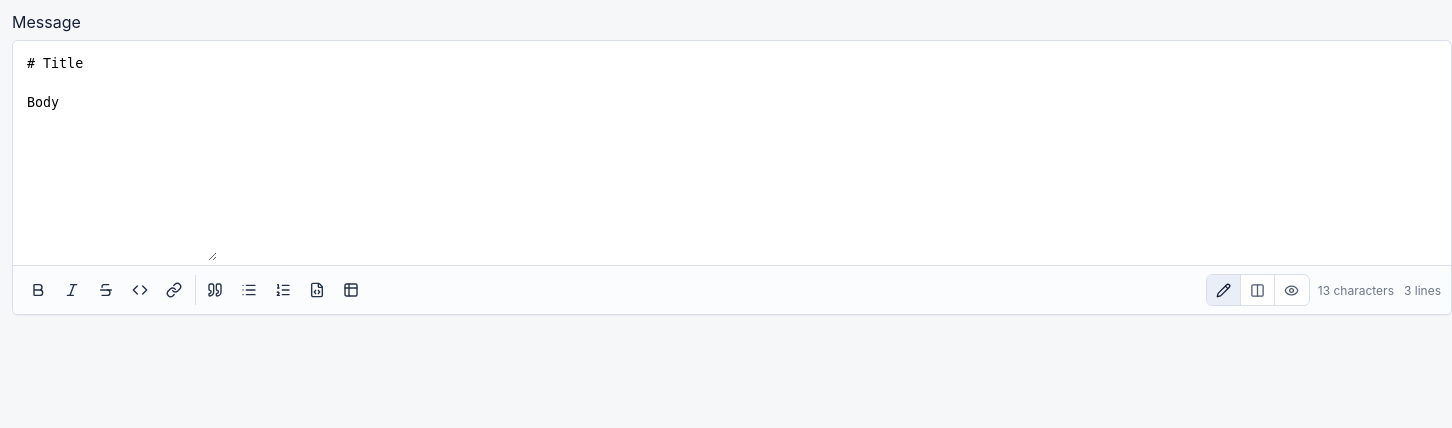
Test: MattermostEditor › shows the editor and rendered output together in split mode
Click the button named "Split".
click(1258, 290)  # box [1241,275,1275,305]
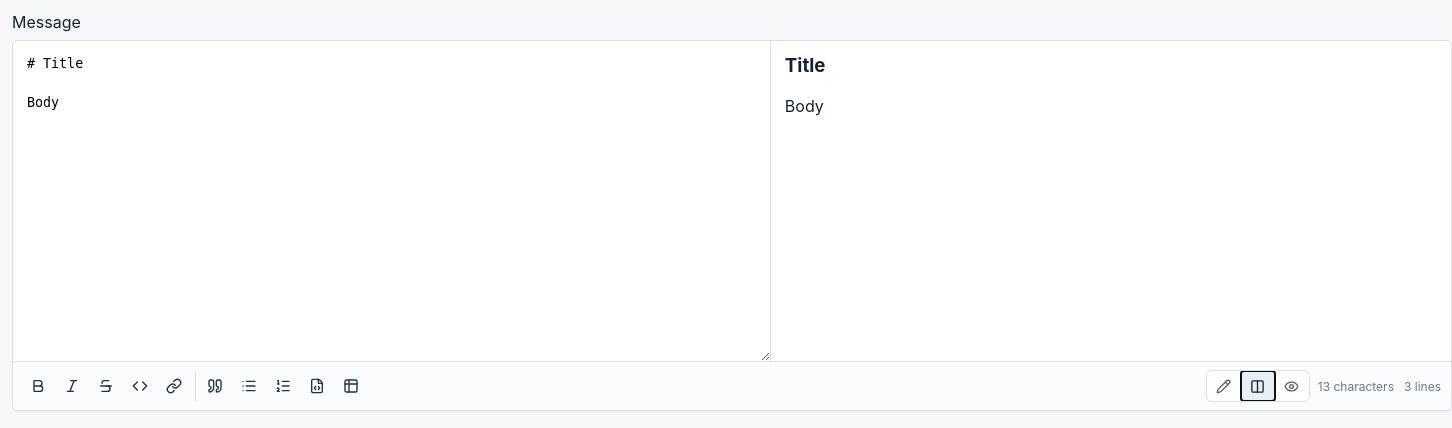
Expected: the text box labelled "Message" is shown, [13,41,770,361]
Expected: the element named "Preview" is shown, [770,41,1451,361]
Expected: the heading "Title" is shown, [785,54,826,77]
